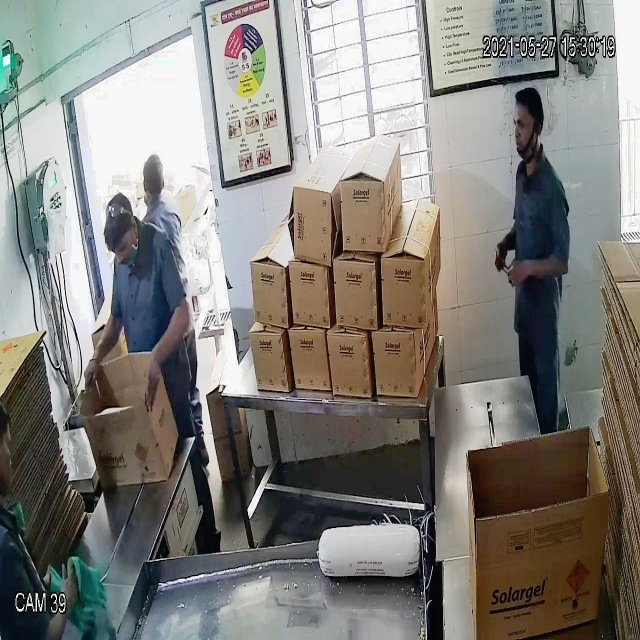Sin_gafas: (507, 109, 543, 142)
